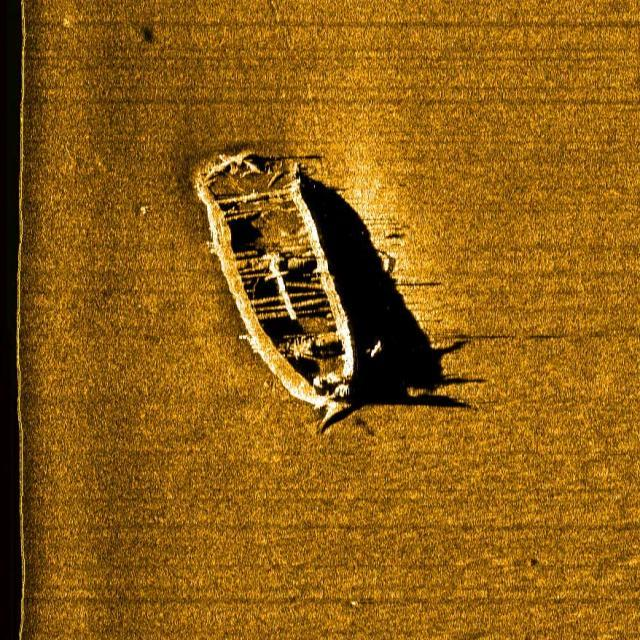shipwreck: (192, 148, 364, 426)
